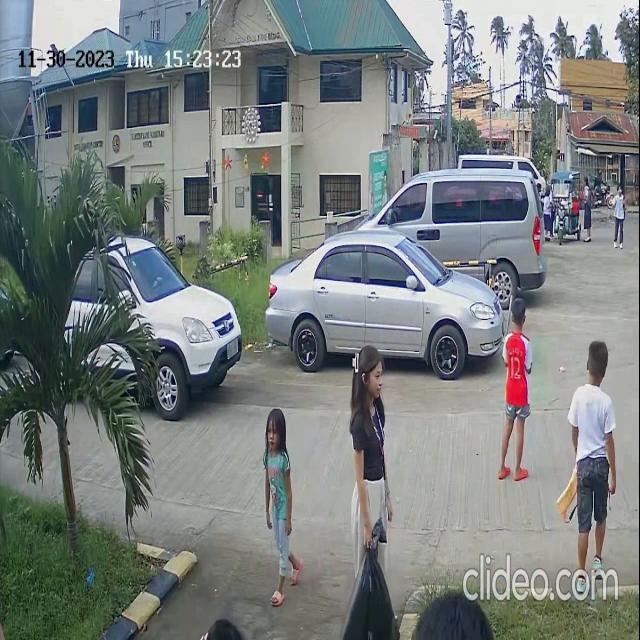person: (258, 408, 296, 524), (503, 298, 531, 398), (350, 342, 388, 399), (614, 179, 630, 244)
